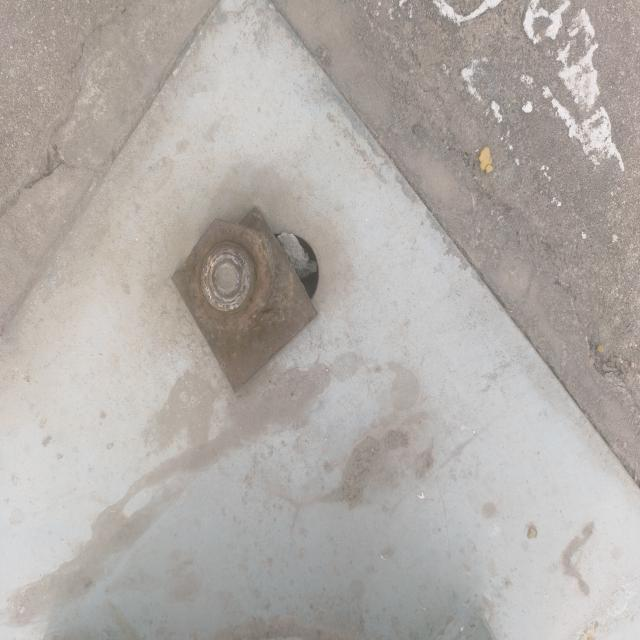bolt nut: (180, 212, 280, 342)
